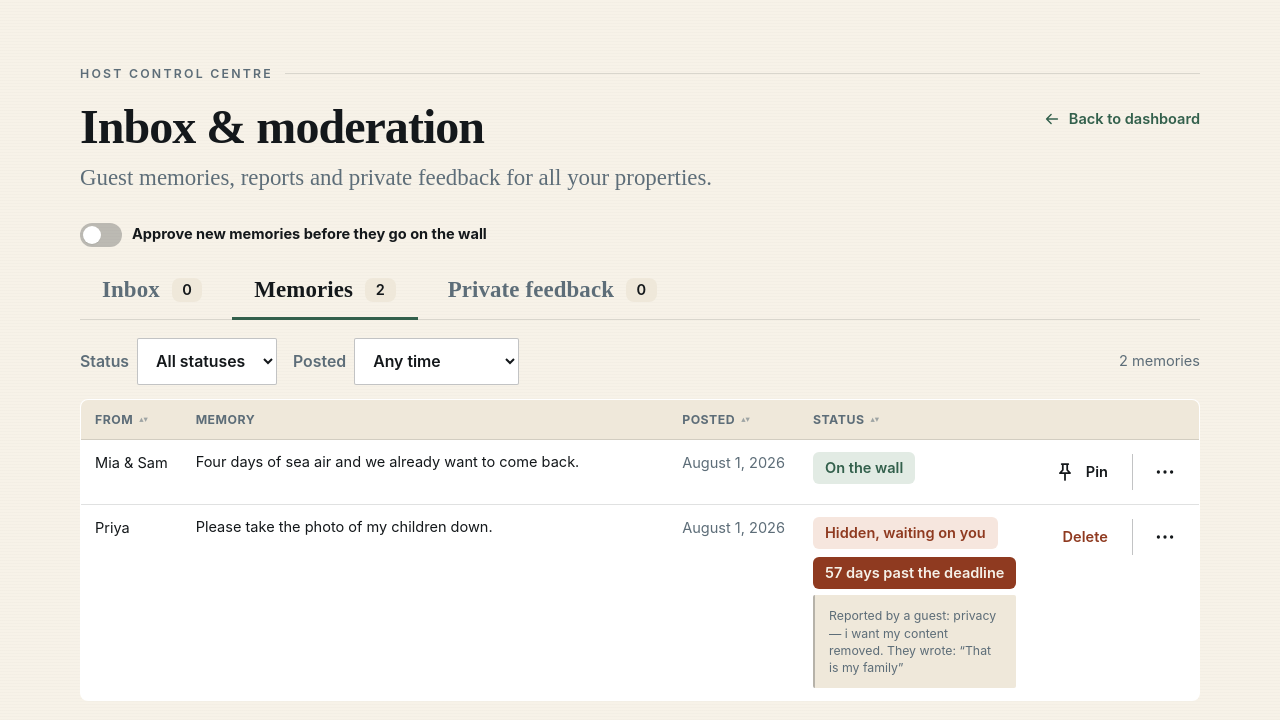
it: the memories table › deletes once confirmed, and moves the memory out of the request pile
The image size is (1280, 720).
Expected: the text "Please take the photo of my children down." is shown, top-left (196, 518), bottom-right (493, 536)
What coordinates should you click on to do the following:
click the button "Delete"
I would click on:
 (1086, 537)
Its box is top-left (1044, 517), bottom-right (1128, 557).
(page scrolled)
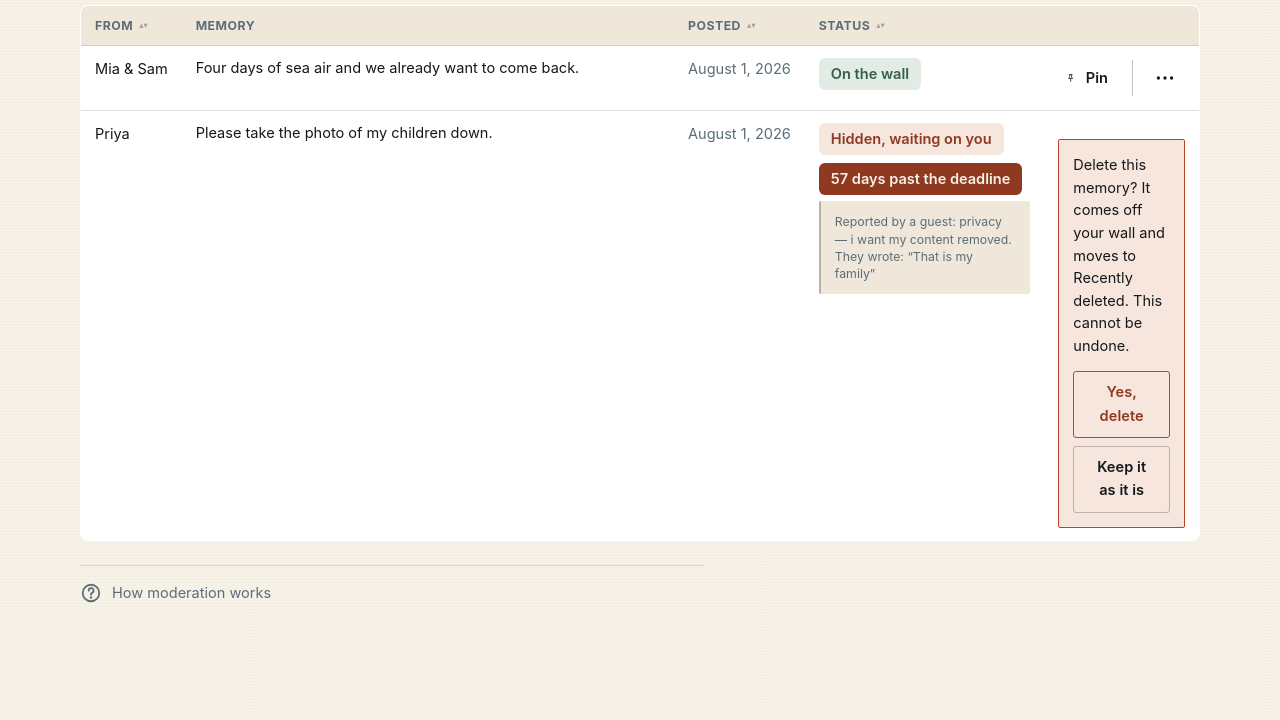
What coordinates should you click on to do the following:
click the button "Yes, delete"
I would click on:
 (1122, 405)
Its box is top-left (1073, 371), bottom-right (1170, 438).
(page scrolled)
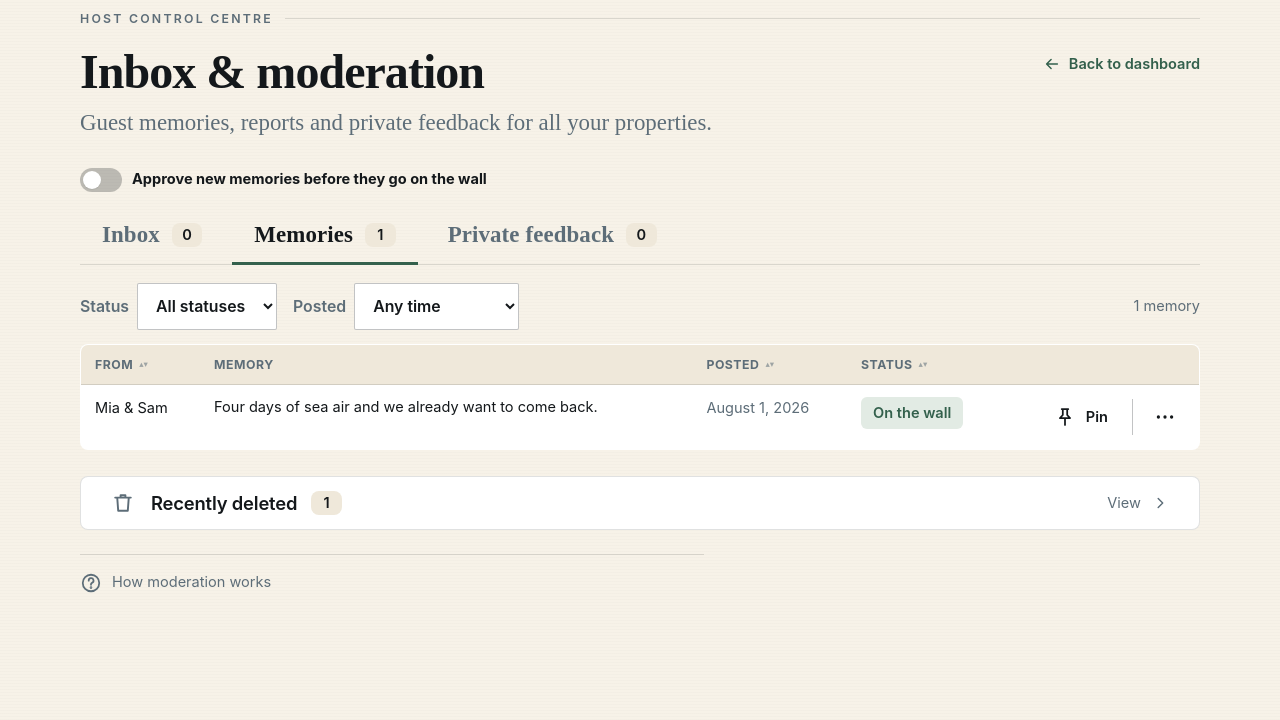
Now the heading "Recently deleted 1" is shown, box top-left (151, 491), bottom-right (342, 515)
